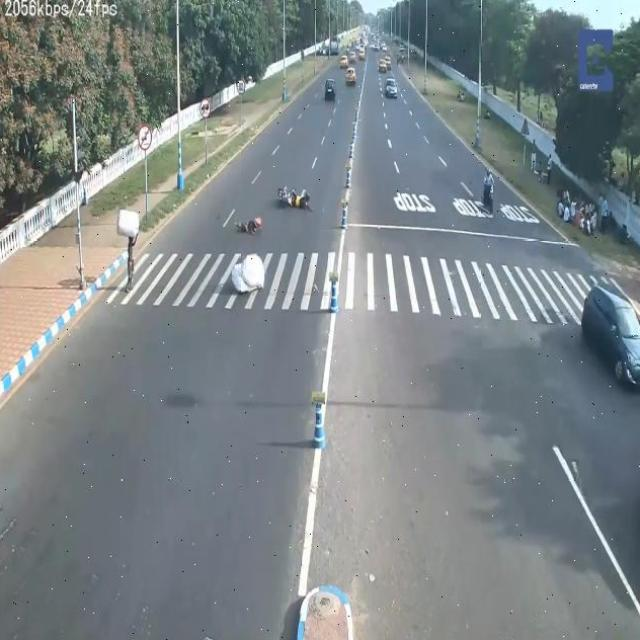accident: (270, 177, 314, 219), (234, 212, 262, 240)
